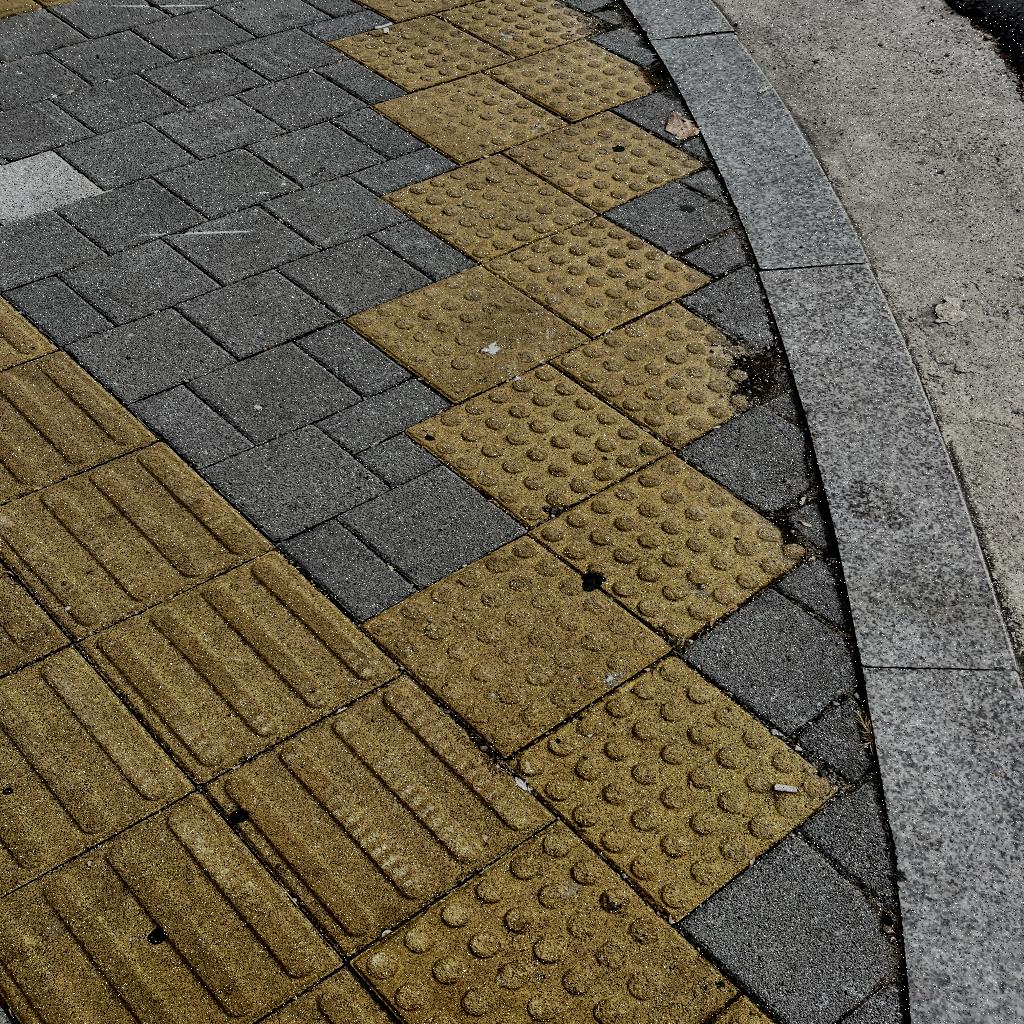Stop block normal: (510, 613, 841, 941), (407, 328, 668, 554), (482, 179, 709, 370), (502, 78, 706, 245)
Straight block normal: (204, 637, 553, 969), (82, 515, 400, 800)
